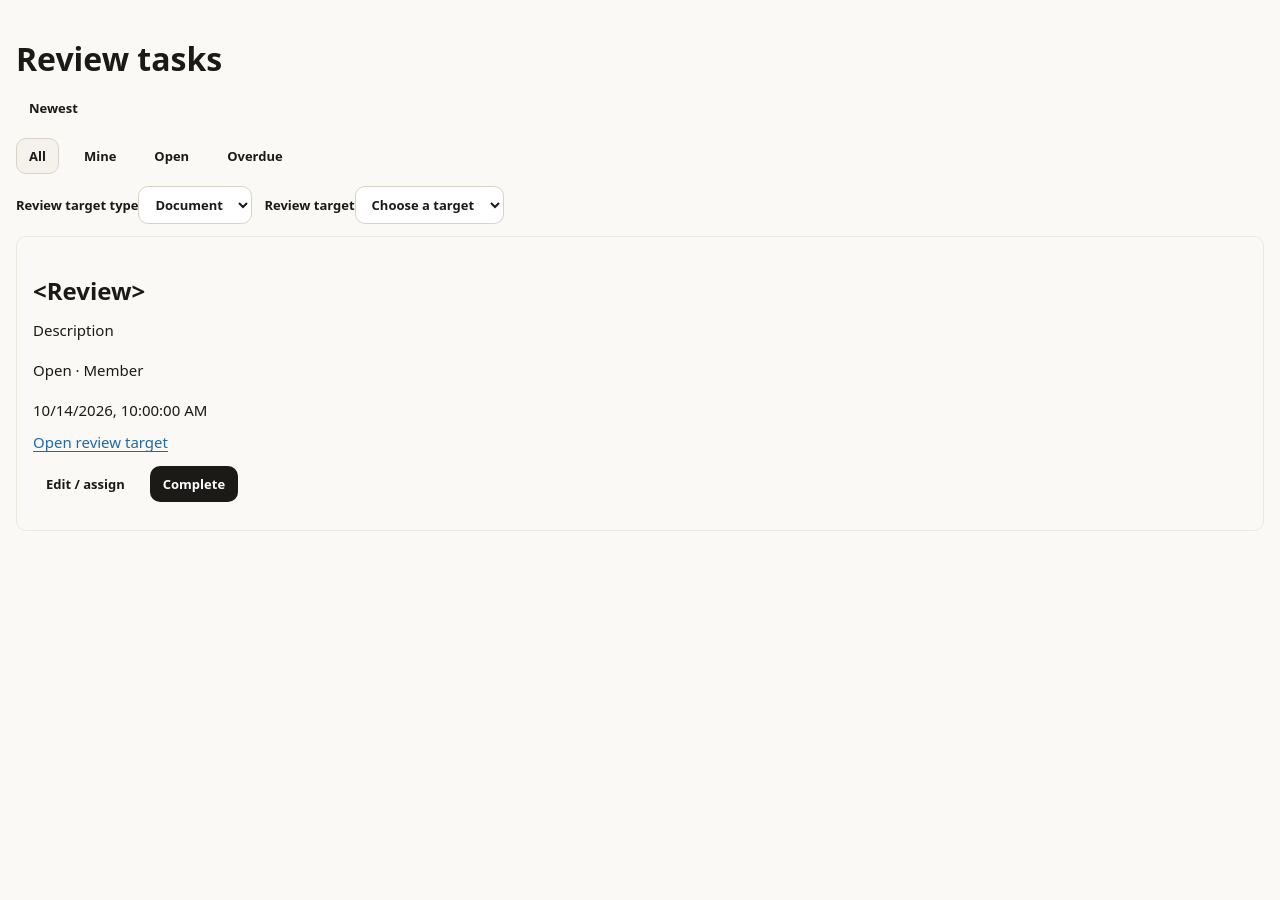
Test: surfaces completion failure and lets users select document and analysis targets
The image size is (1280, 900).
Expected: the heading "<Review>" is shown, [33,274,145,307]
Click the button "Complete".
click(194, 484)  # box [150,466,238,502]
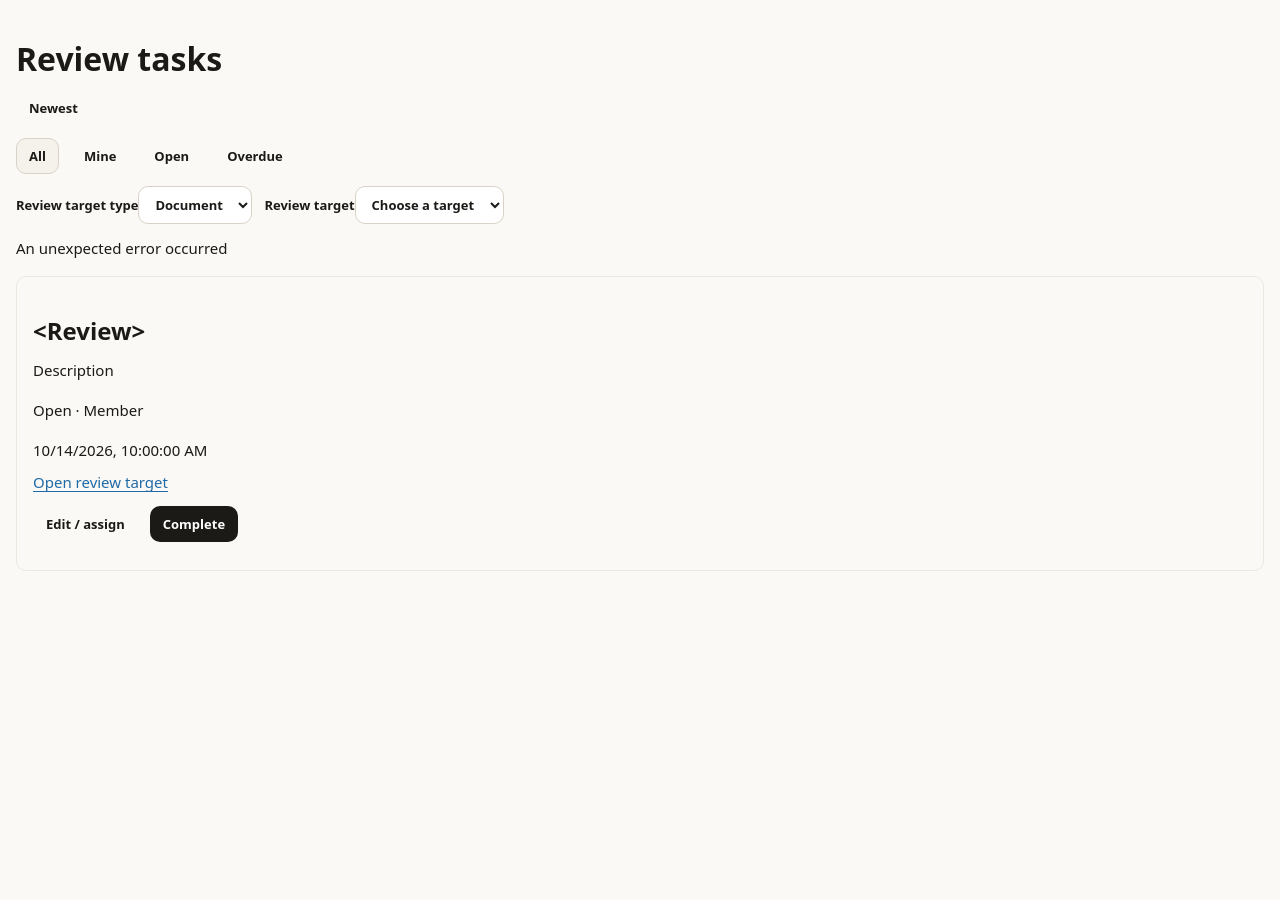
Result: the message "An unexpected error occurred" is shown at [16,238,228,258]
Select "Document" in the dropdown labelled "Review target" at (429, 205), box [355,186,504,224]
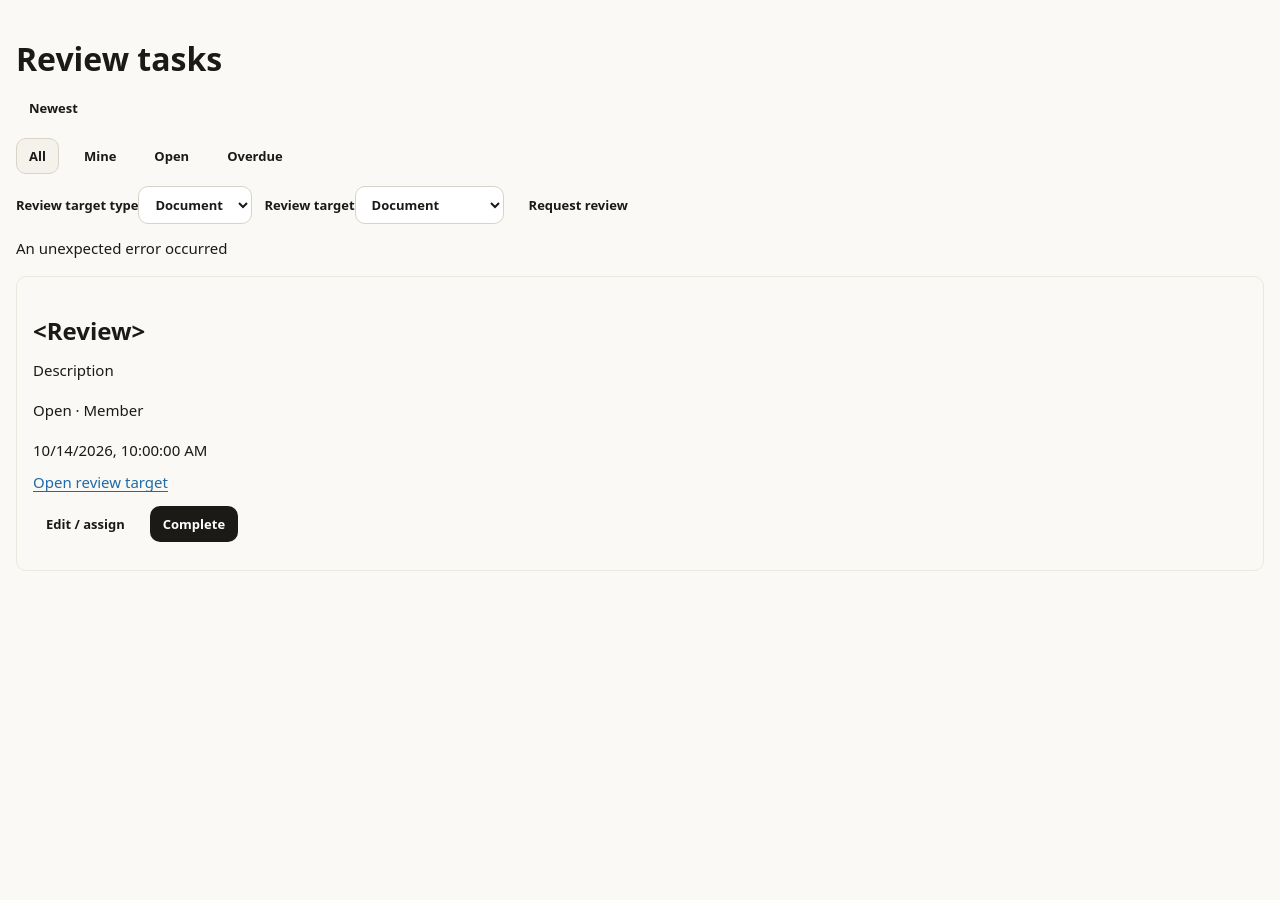
Click the button "Request review".
click(578, 205)  # box [516,188,641,222]
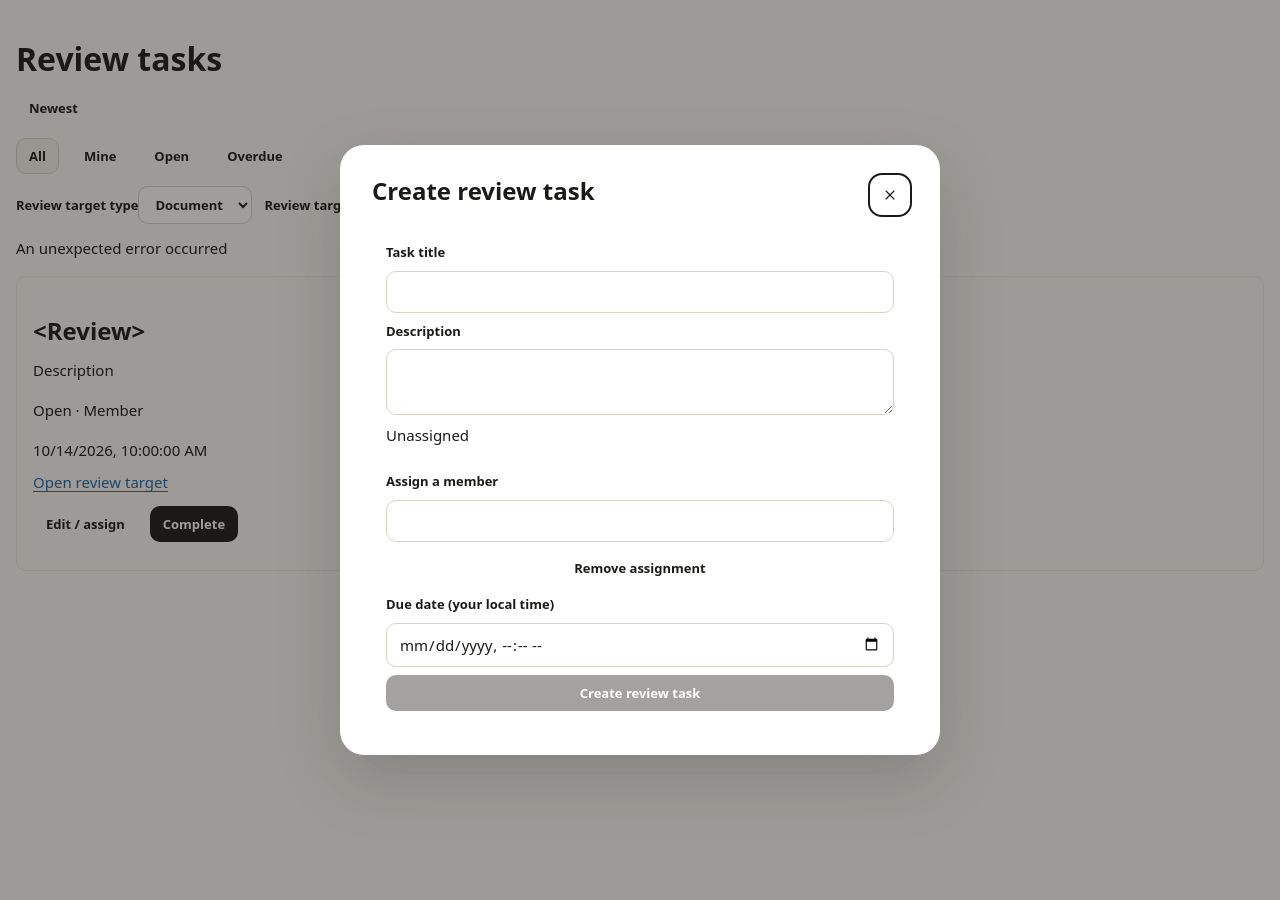
Result: the dialog is shown
Press Escape in the dialog, box [340,145,940,755]
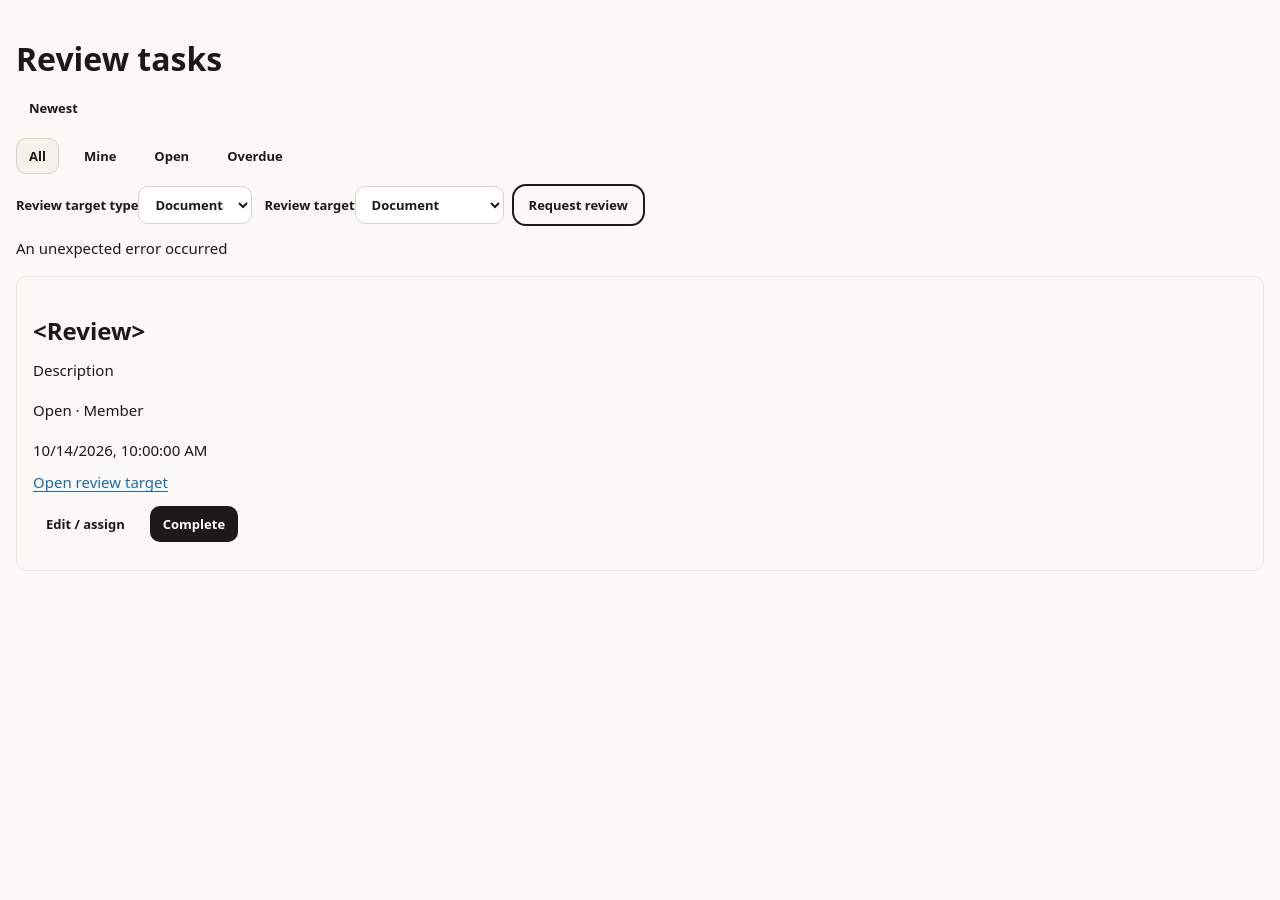
Select "Analysis" in the dropdown labelled "Review target type" at (196, 205), box [138,186,252,224]
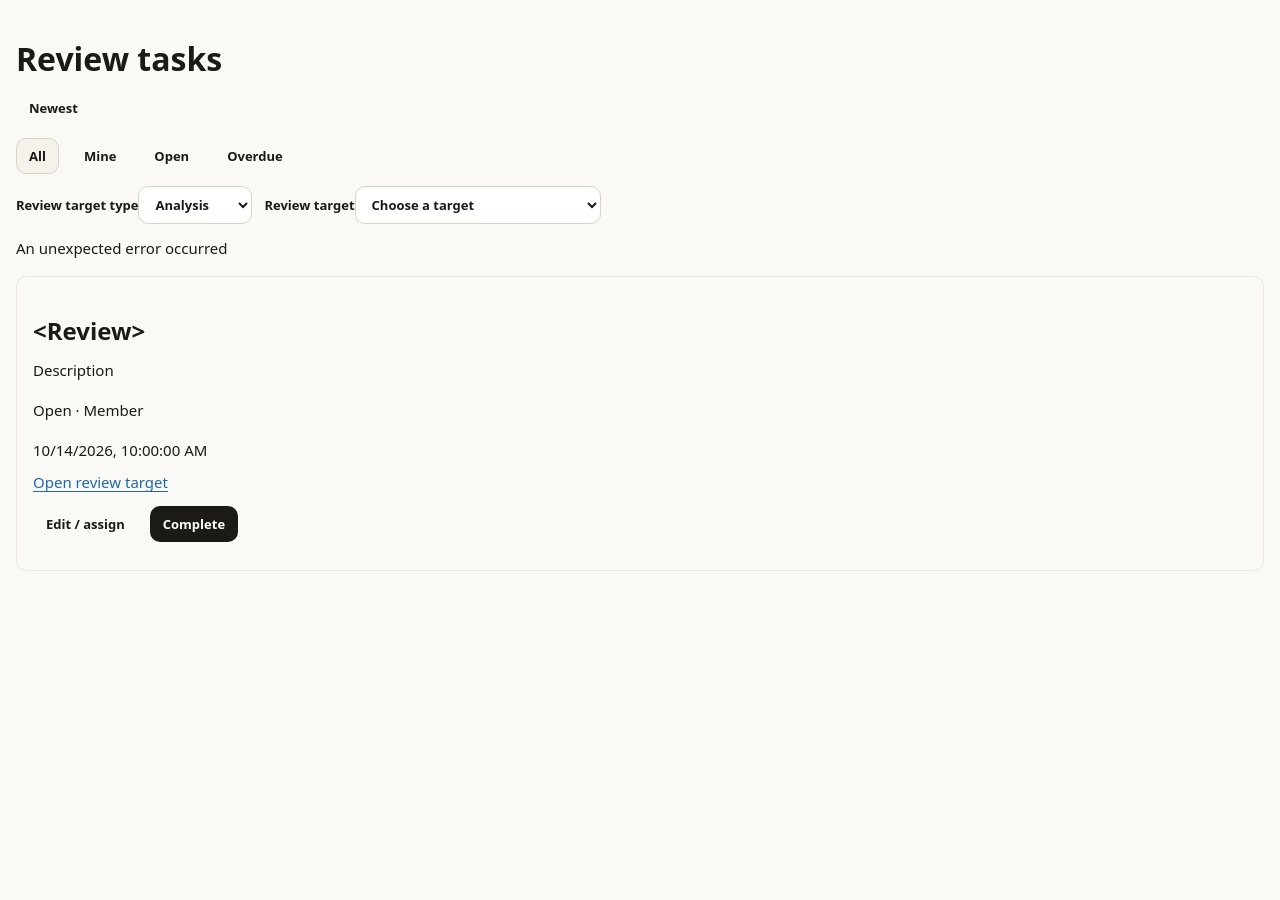
Select "Analysis · 2026-10-14T10:00:00Z" in the dropdown labelled "Review target" at (478, 205), box [355,186,601,224]
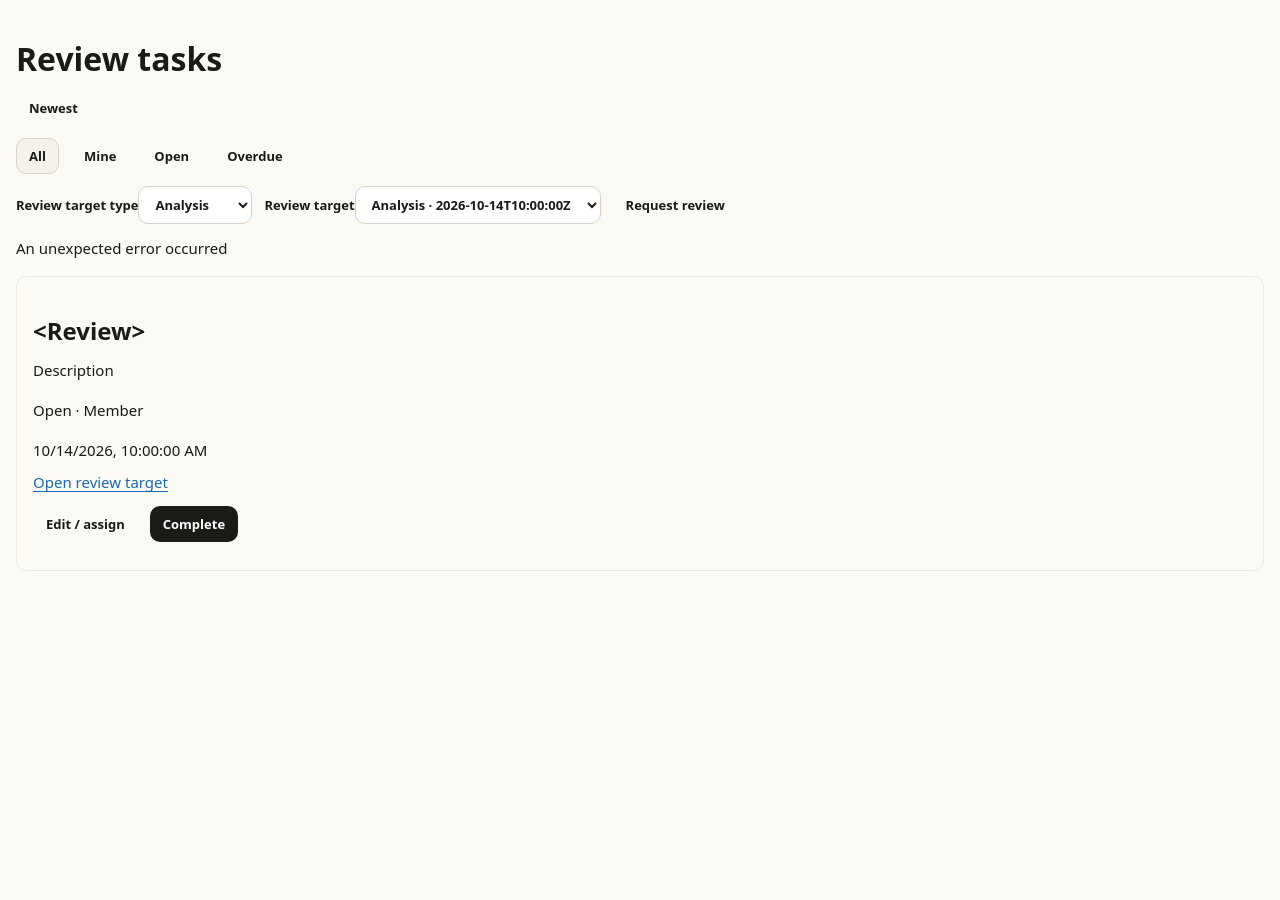
Result: the button "Request review" is shown at [613,188,738,222]
